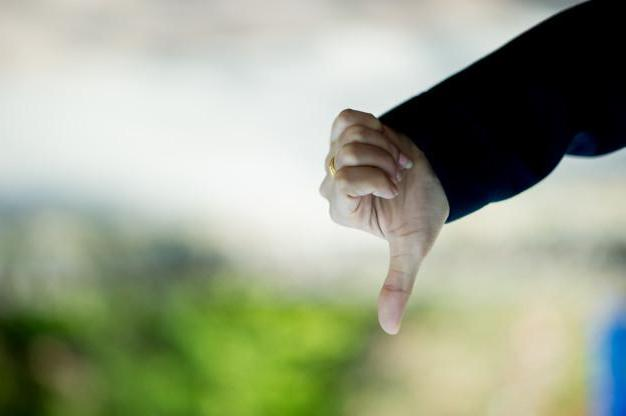thumbsdown: (319, 108, 416, 335)
